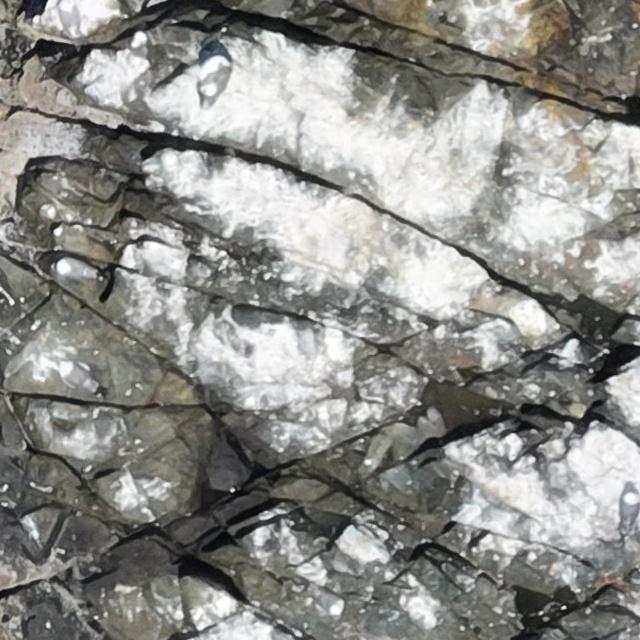umineko: (197, 61, 235, 106), (55, 259, 101, 282), (61, 364, 90, 388), (620, 492, 638, 528)
